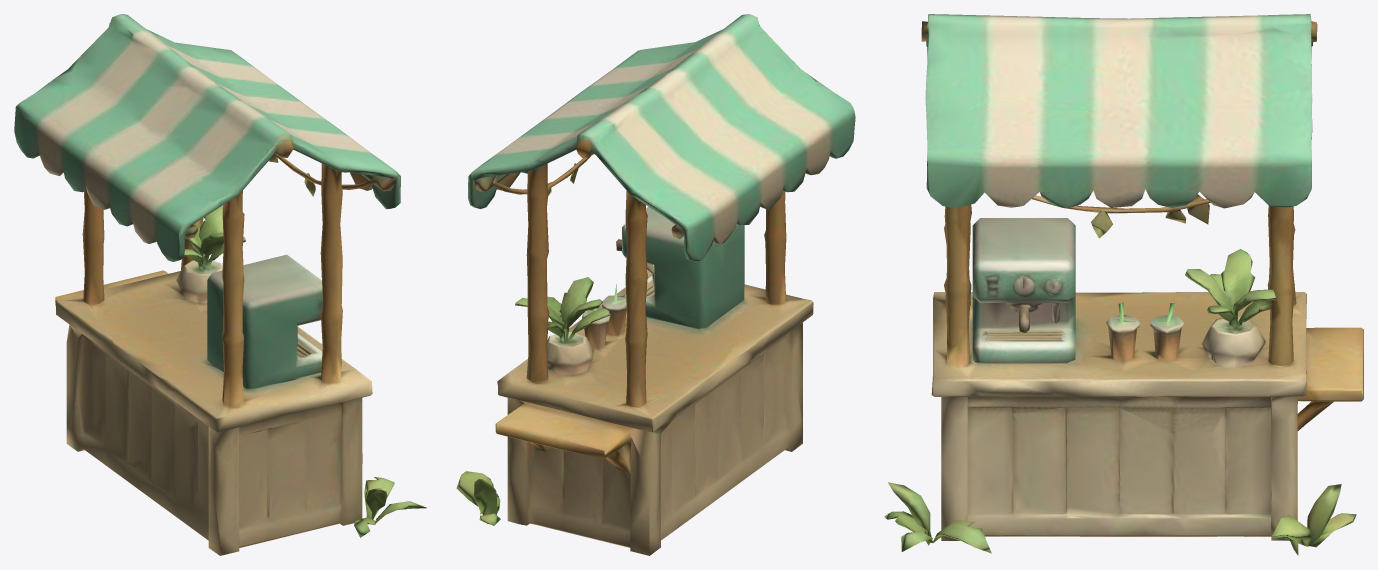
The model's file is act_cafe.glb.
The picture shows the model from 3 angles, left to right: view 1: azimuth 30°, elevation 25°; view 2: azimuth 150°, elevation 25°; view 3: azimuth 270°, elevation 25°; orthographic projection. The views are drawn at different scales.
Parts seen in each view (by area): view 1: tripo_node_03706396-75c4-423d-a42b-8eb69be6f0ae; view 2: tripo_node_03706396-75c4-423d-a42b-8eb69be6f0ae; view 3: tripo_node_03706396-75c4-423d-a42b-8eb69be6f0ae.
Part boxes in pixels (<box>): tripo_node_03706396-75c4-423d-a42b-8eb69be6f0ae: <box>14,14,426,555</box>; tripo_node_03706396-75c4-423d-a42b-8eb69be6f0ae: <box>456,14,855,555</box>; tripo_node_03706396-75c4-423d-a42b-8eb69be6f0ae: <box>884,14,1363,555</box>.
Bounding box in the file's own units: 0.6124 × 1 × 0.9085.
1 material, 1 textured.
